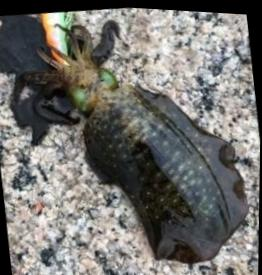Cephalopod: (18, 19, 248, 259)
